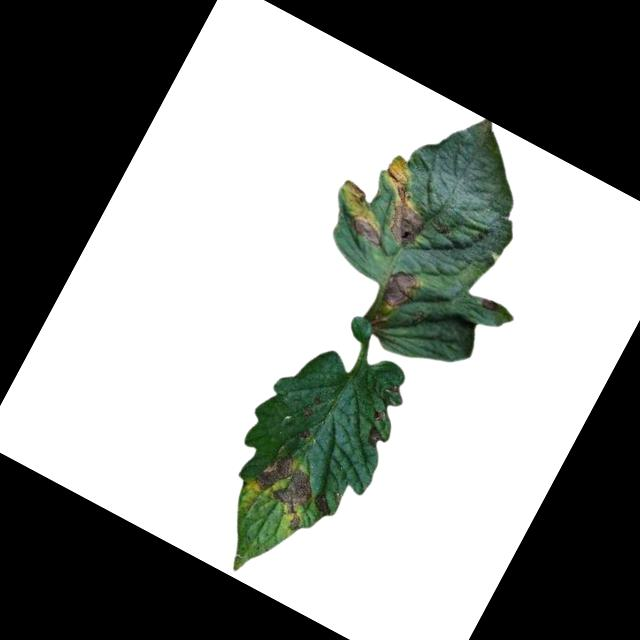Early_blight: (357, 150, 452, 252), (239, 444, 328, 534), (376, 263, 425, 314), (334, 177, 383, 220), (348, 211, 387, 245), (308, 489, 338, 519), (363, 423, 387, 449), (480, 294, 504, 315), (298, 403, 317, 422), (297, 425, 314, 443)
